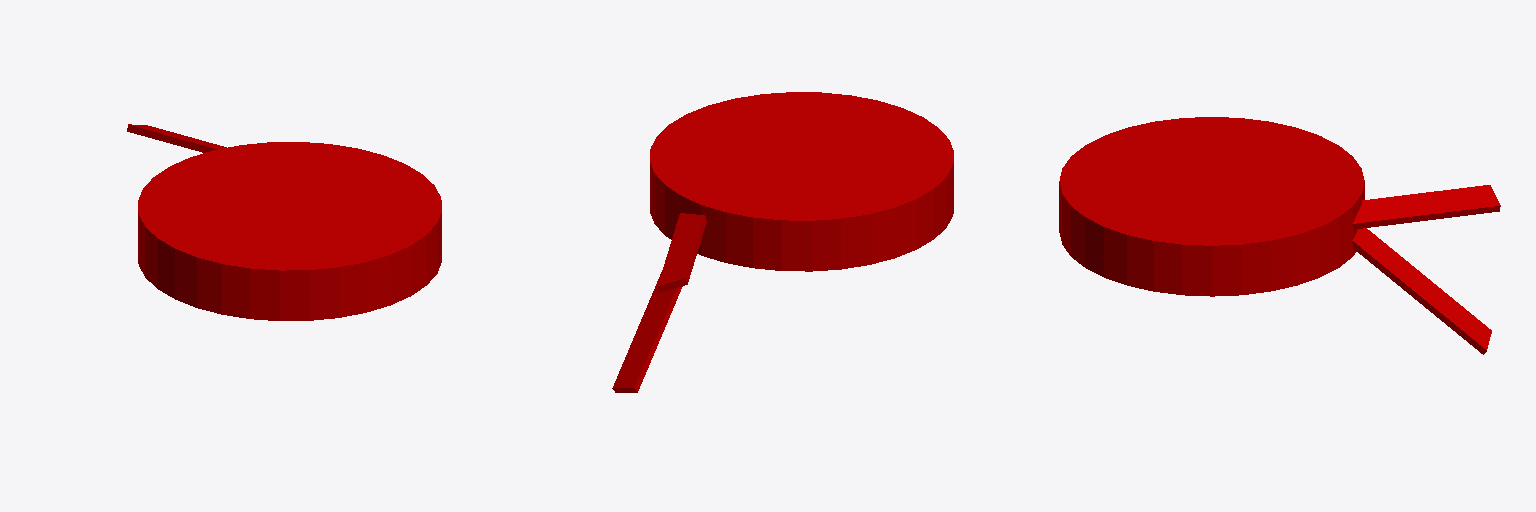
Rendered from scarf.obj.
The picture shows the model from 3 angles: view 1: azimuth 30°, elevation 25°; view 2: azimuth 150°, elevation 25°; view 3: azimuth 270°, elevation 25°; orthographic projection.
Parts seen in each view (by area): view 1: Cylinder.007; view 2: Cylinder.007; view 3: Cylinder.007.
Part boxes in pixels (x1,y1,x2,y2): Cylinder.007: (127,124,441,320); Cylinder.007: (612,92,953,392); Cylinder.007: (1059,117,1500,354).
Bounding box in the file's own units: 2.56 × 1.38 × 3.71.